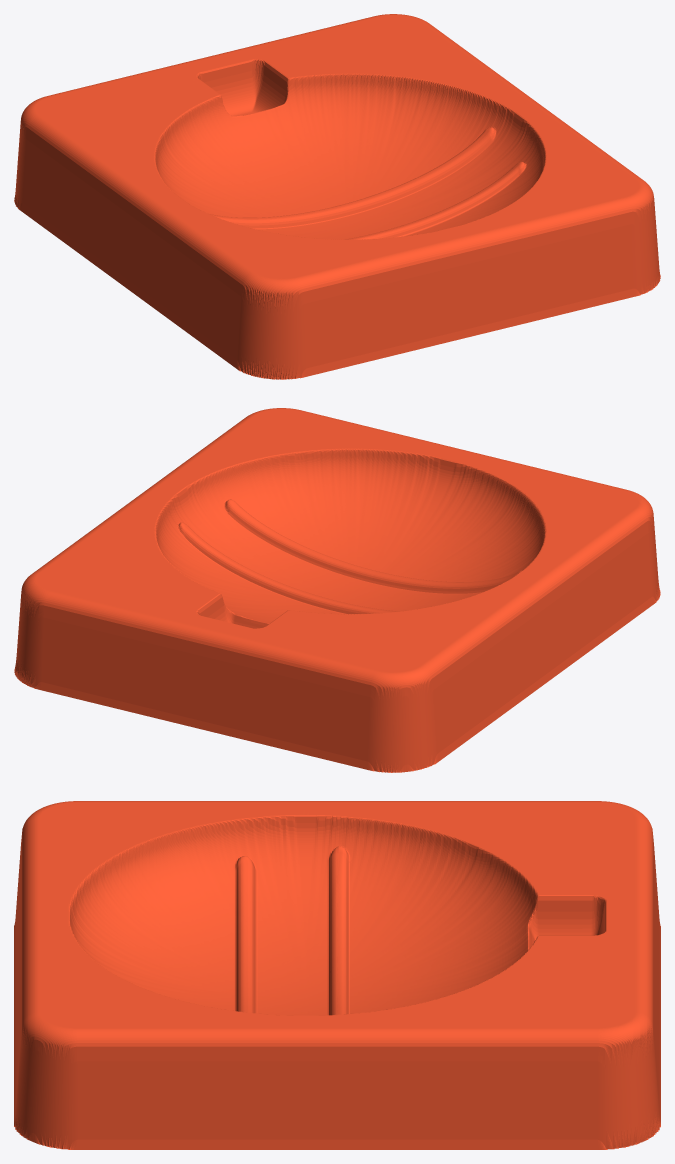
File: mold.glb
3 views of the same model, one above another, from view 1: azimuth 30°, elevation 25°; view 2: azimuth 150°, elevation 25°; view 3: azimuth 270°, elevation 25° (orthographic). The views are drawn at different scales.
Visible parts, largest first — view 1: geometry_0; view 2: geometry_0; view 3: geometry_0.
Part boxes in pixels (x1=…): geometry_0: x1=14, y1=14, x2=660, y2=379; geometry_0: x1=14, y1=408, x2=660, y2=772; geometry_0: x1=14, y1=801, x2=660, y2=1149.
Bounding box in the file's own units: 0.0834 × 0.0175 × 0.0924.
